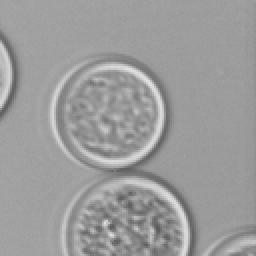picoshell: (50, 60, 166, 168), (68, 176, 190, 254), (202, 226, 254, 254), (0, 31, 14, 115)
